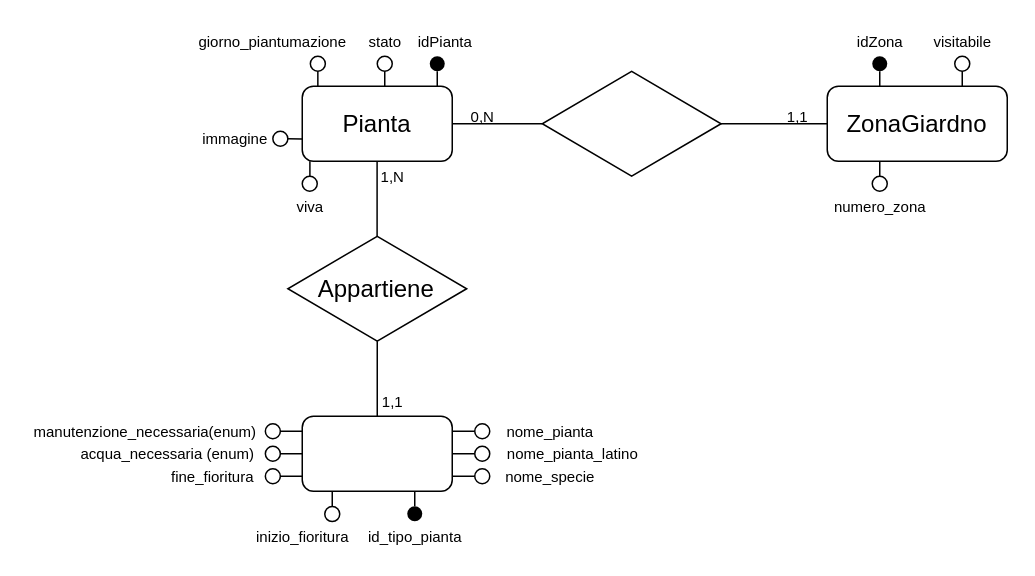
The diagram is 1035 pixels wide and 576 high, and some of its shapes have lost their labels. Here are the shapes that lost their labels. From the top down, the box of each, then its label:
(541, 70, 721, 176): Contiene
(301, 415, 452, 491): TipologiaPianta
